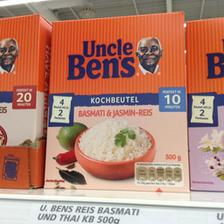Reis: (40, 10, 190, 190), (0, 13, 50, 145), (186, 14, 222, 190)
